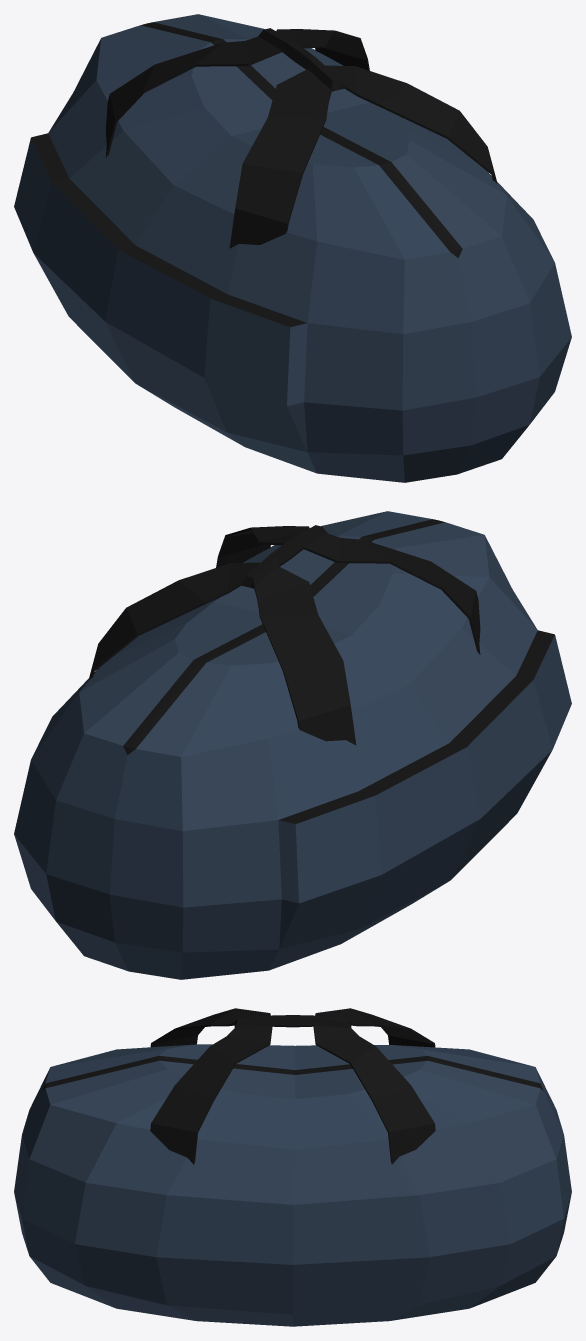
Rendered from sports_bag.fbx.
3 renders of one model, top to bottom at view 1: azimuth 30°, elevation 25°; view 2: azimuth 150°, elevation 25°; view 3: azimuth 270°, elevation 25°, orthographic. The views are drawn at different scales.
Visible parts, largest first — view 1: Sports Bag; view 2: Sports Bag; view 3: Sports Bag.
Boxes of the visible parts, x1,y1,x2,y2 form: Sports Bag: [14, 14, 571, 482]; Sports Bag: [14, 511, 571, 979]; Sports Bag: [14, 1008, 571, 1326].
Bounding box in the file's own units: 210 × 179 × 337.
